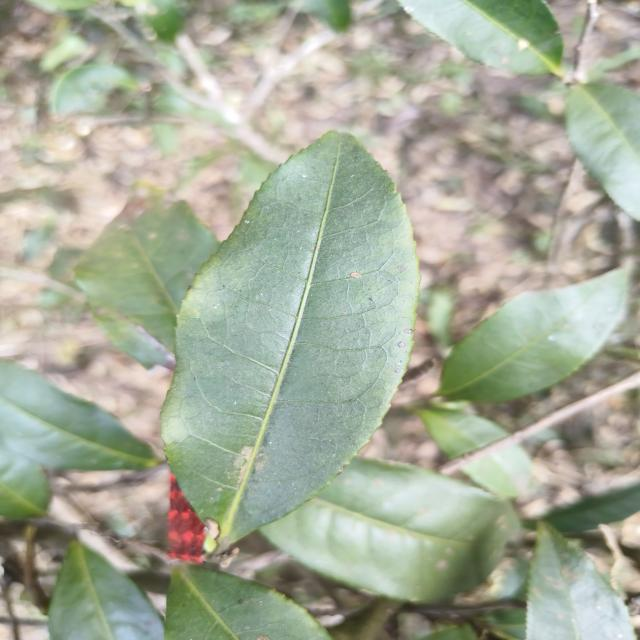Leaf: (162, 132, 419, 548), (260, 457, 517, 602), (74, 191, 219, 367), (439, 269, 628, 402), (0, 360, 159, 471), (526, 522, 635, 640), (165, 565, 332, 640), (398, 0, 563, 74), (48, 541, 164, 640), (565, 83, 640, 220), (541, 483, 640, 532), (416, 408, 507, 458), (0, 440, 50, 519), (462, 446, 531, 497)
